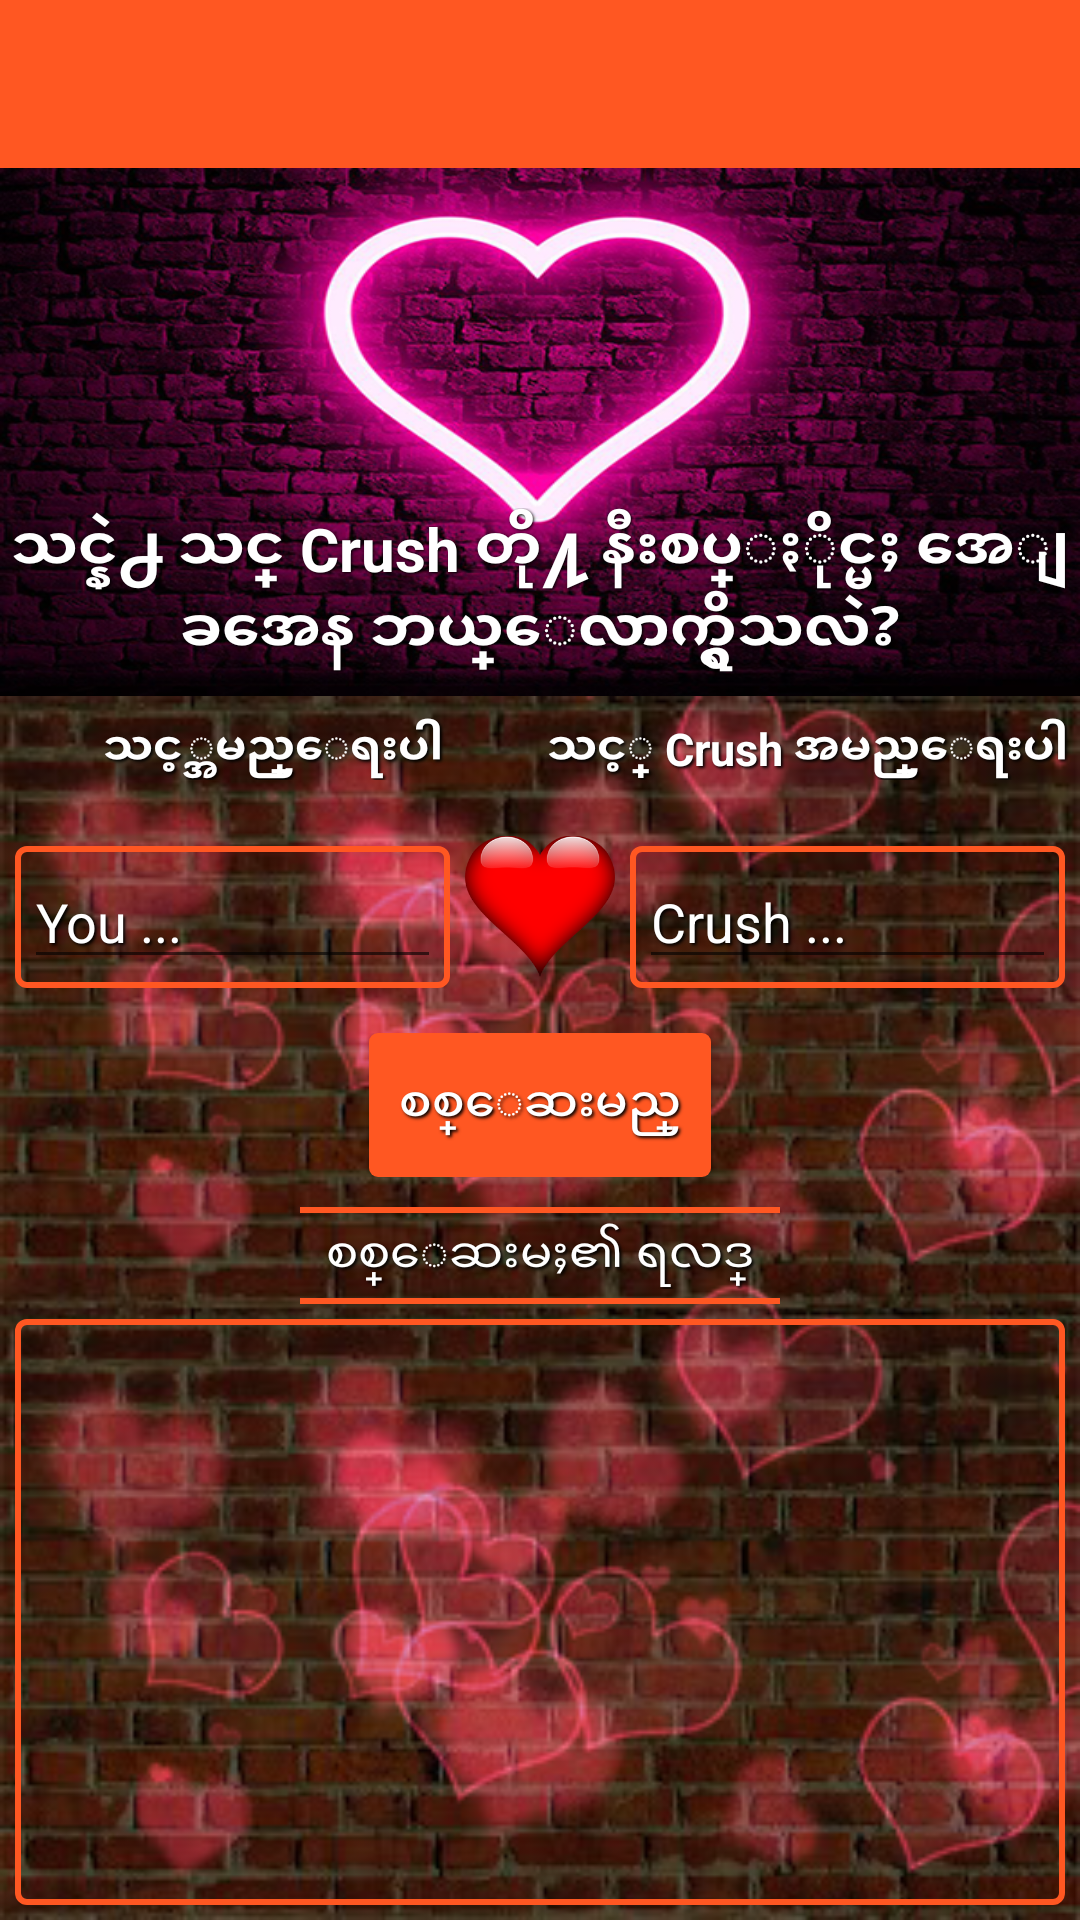

Screen size 1080w x 1920h. Icon name, then its center in pixels as (x,y):
heart: (540,906)
